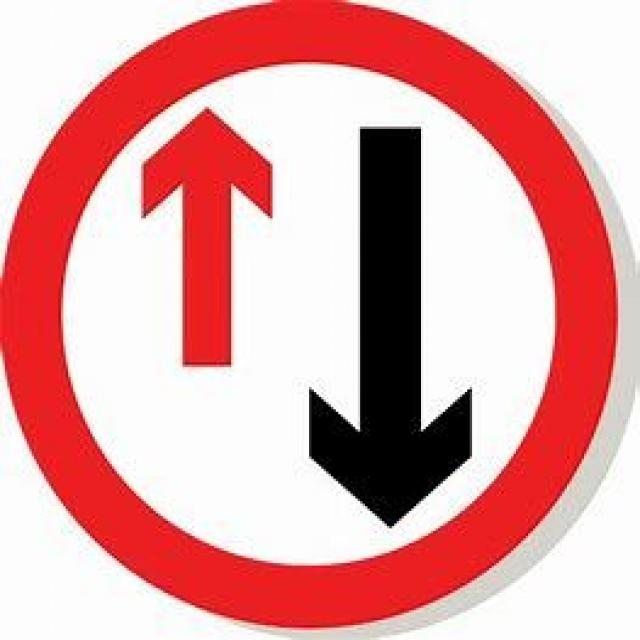PRIORITY_FOR_ONCOMING_VEHICLES: (0, 0, 618, 628)
